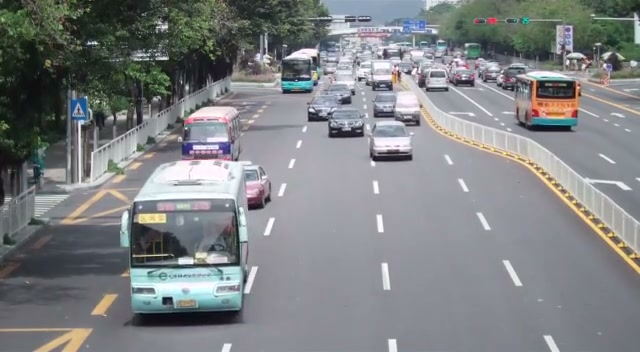bus: (121, 159, 250, 318), (513, 70, 581, 130), (180, 105, 243, 161), (281, 53, 315, 92), (318, 40, 343, 71)
car: (367, 120, 414, 162), (236, 162, 272, 210), (327, 108, 364, 138), (395, 92, 422, 126), (307, 95, 341, 121), (496, 64, 528, 89), (372, 92, 397, 117), (424, 68, 449, 92), (327, 83, 353, 104), (449, 69, 476, 86), (481, 64, 501, 82)
pedestrian: (601, 61, 612, 85)
truck: (369, 60, 393, 90)
